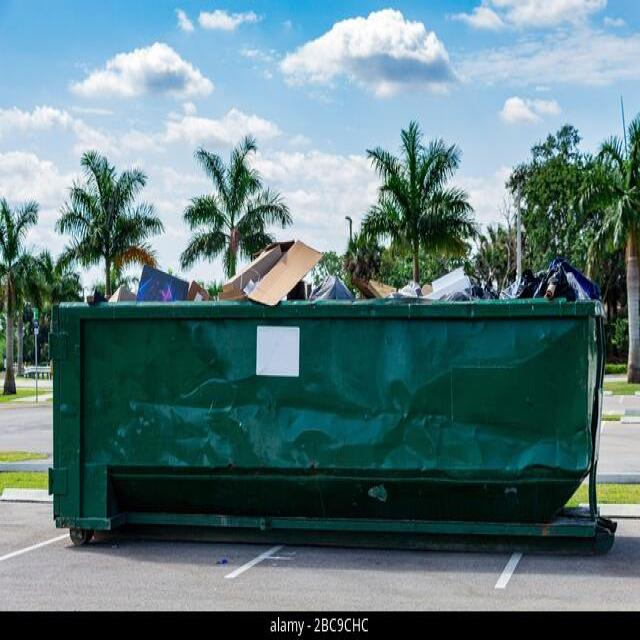cardboard: (222, 240, 316, 310), (104, 262, 216, 306), (367, 260, 472, 300)
trash: (492, 253, 586, 308)
